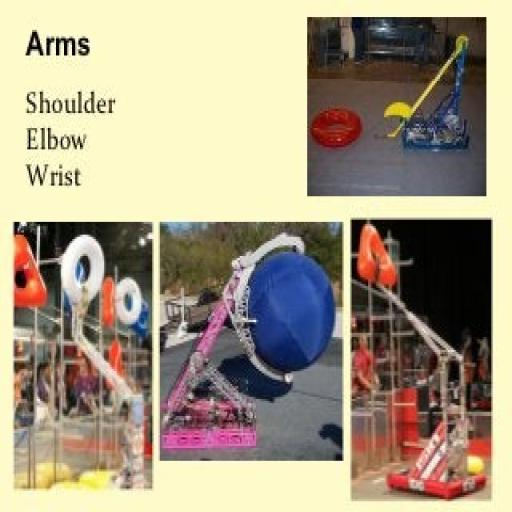robot: (163, 230, 304, 446), (366, 252, 486, 495), (384, 32, 474, 149)
